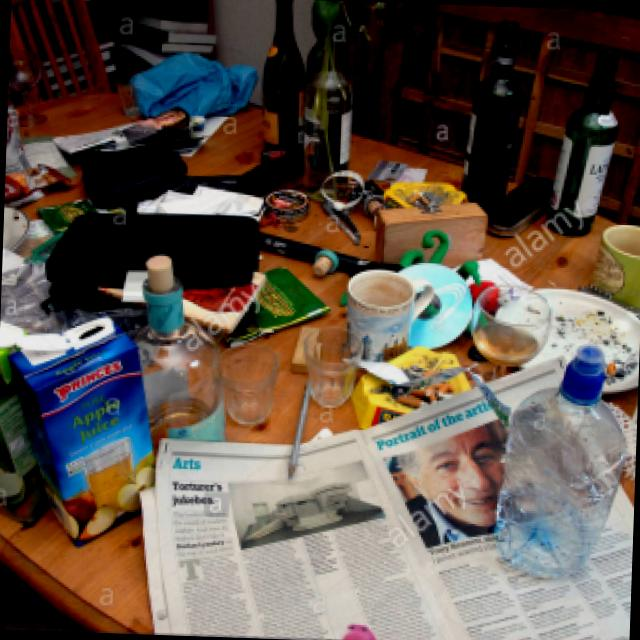mess: (0, 59, 640, 640)
